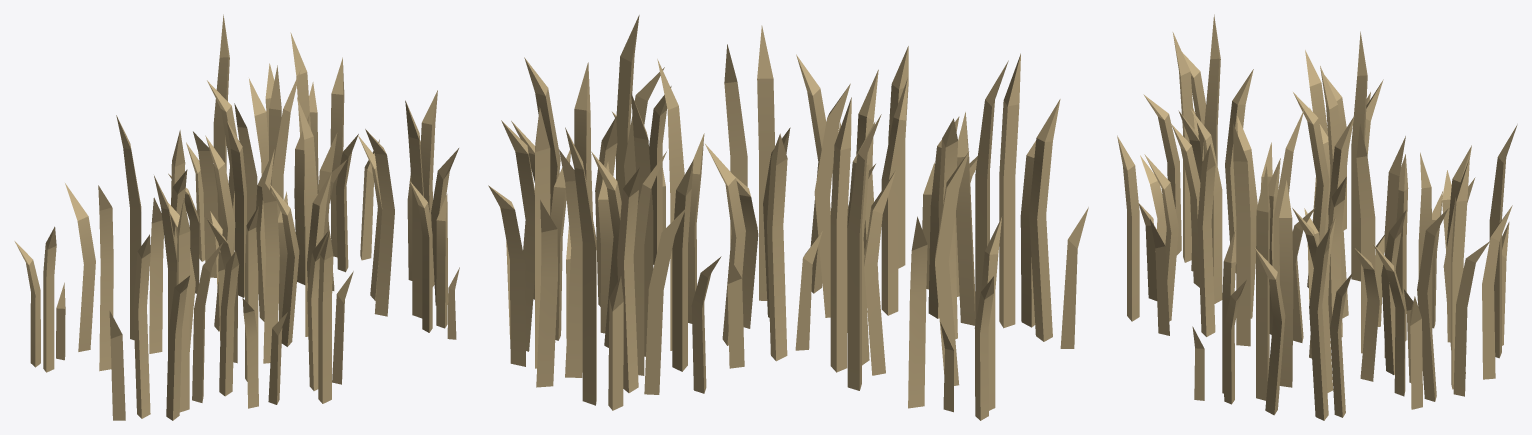
The model's file is SM_Prop_Plant_Wheat_Optimised_04.glb.
The picture shows the model from 3 angles, left to right: view 1: azimuth 30°, elevation 25°; view 2: azimuth 150°, elevation 25°; view 3: azimuth 270°, elevation 25°; orthographic projection. The views are drawn at different scales.
Parts seen in each view (by area): view 1: SM_Prop_Plant_Wheat_Optimised_04; view 2: SM_Prop_Plant_Wheat_Optimised_04; view 3: SM_Prop_Plant_Wheat_Optimised_04.
Part boxes in pixels (x1,y1,x2,y2): SM_Prop_Plant_Wheat_Optimised_04: [14, 14, 459, 420]; SM_Prop_Plant_Wheat_Optimised_04: [488, 15, 1088, 420]; SM_Prop_Plant_Wheat_Optimised_04: [1117, 14, 1517, 420].
Size of the model in its own units: 1.74 by 0.9449 by 1.44.
1 material, 1 textured.
